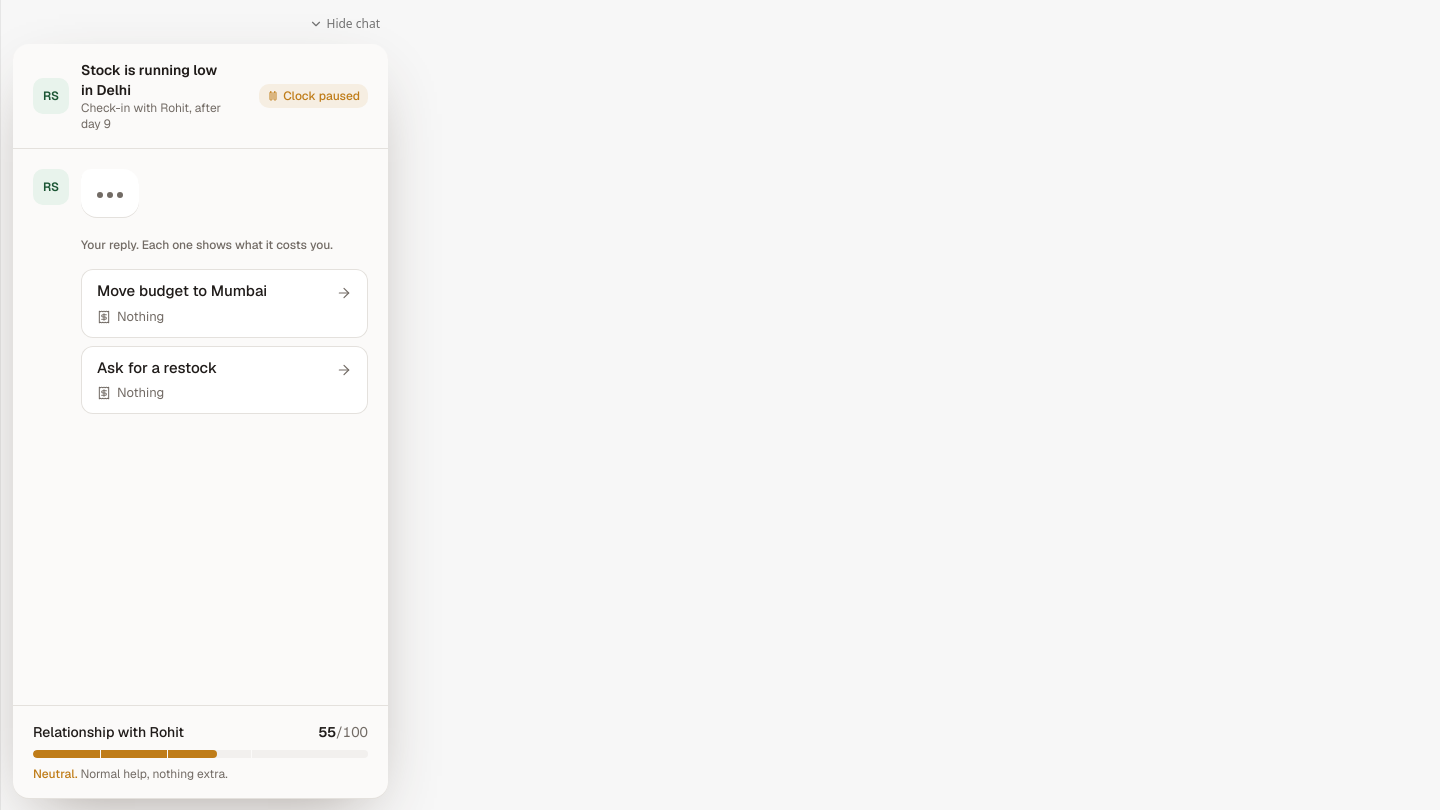
it: RohitDock › hides to a small tab without closing the check-in, and reopens
What coordinates should you click on to do the following:
click the button with aria-label "Hide Rohit"
I would click on:
 (344, 24)
Its box is [300, 12, 388, 36].
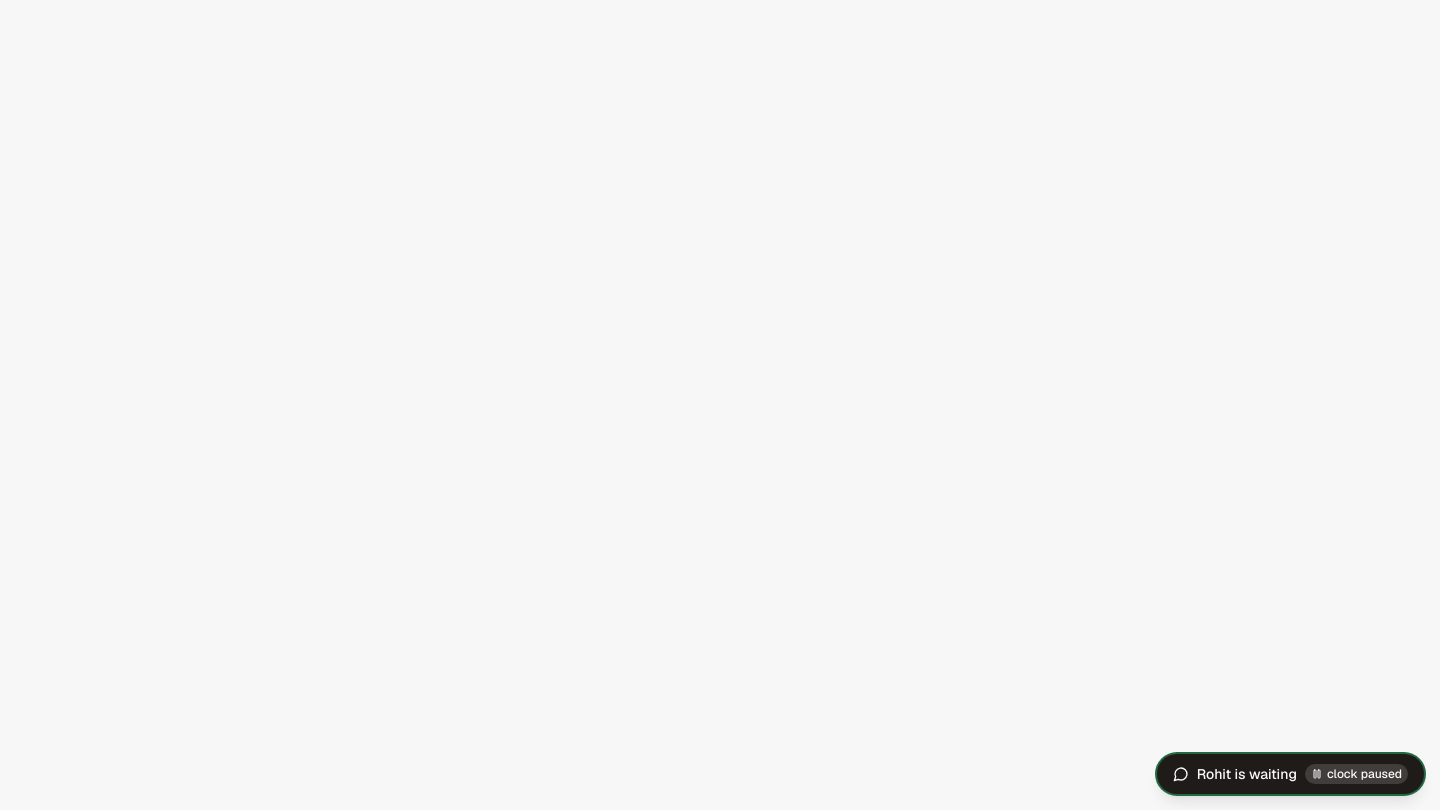
Now the button "Rohit is waiting clock paused" is shown
What coordinates should you click on to do the following:
click the button "Rohit is waiting clock paused"
I would click on:
 (1290, 774)
Its box is [1157, 754, 1424, 794].
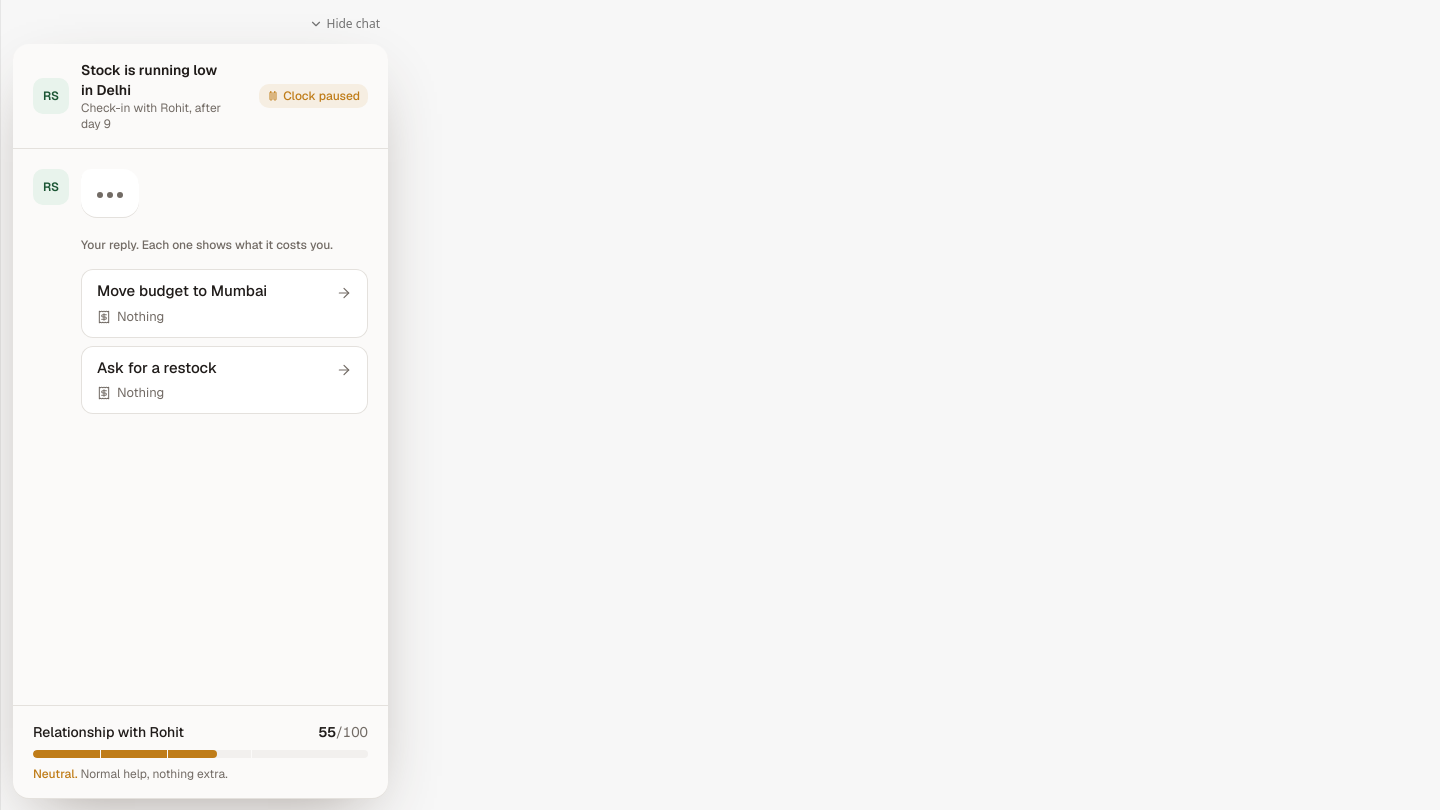
Now the element named "Rohit:" is shown, box [13, 44, 388, 798]
